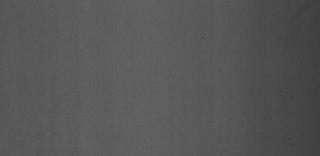inclusion: (286, 136, 296, 148)
water spot: (281, 9, 315, 49)
